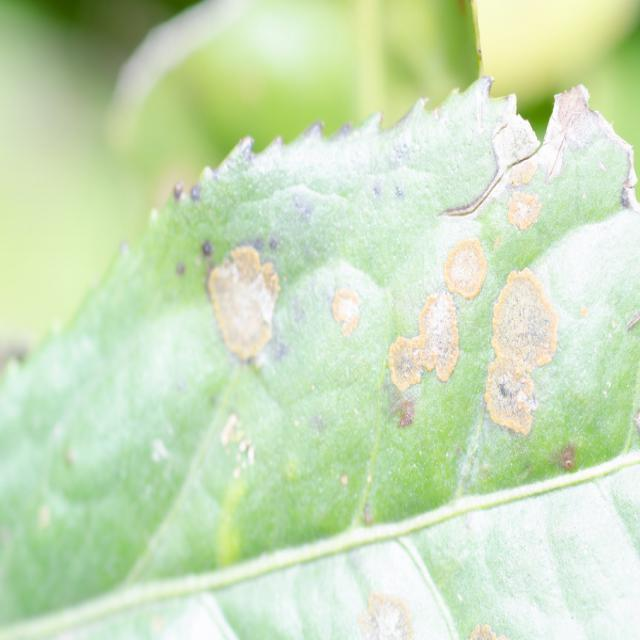Tea red rust: (194, 160, 584, 471)
